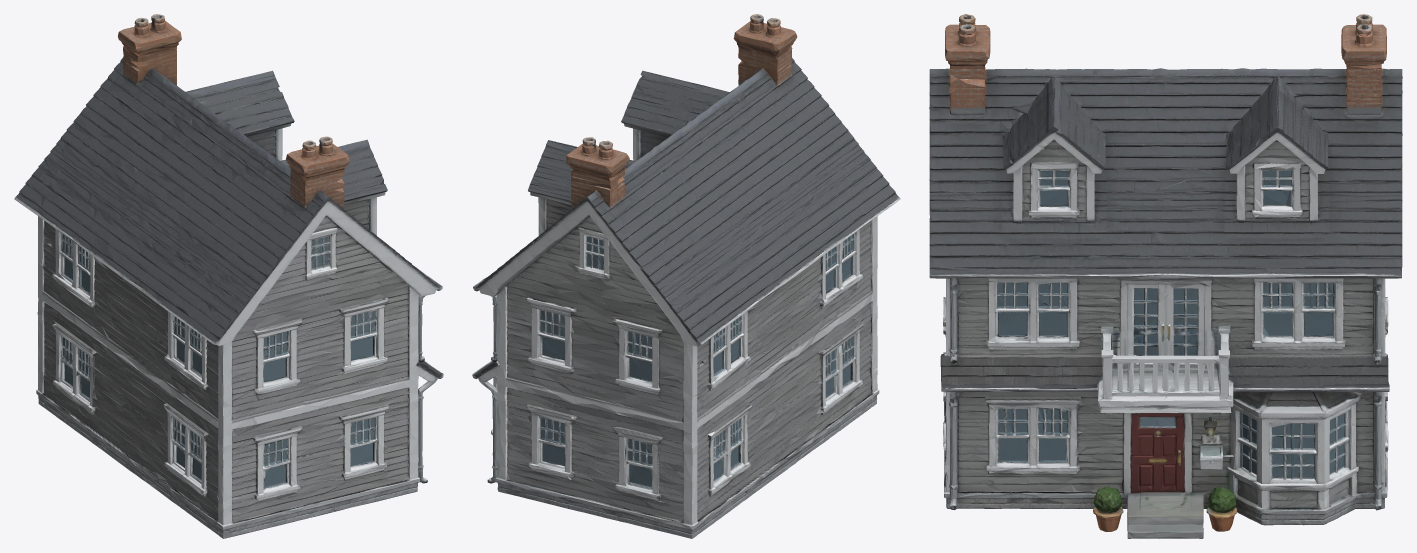
File: house_2story_grey.glb
3 renders of one model, left to right at view 1: azimuth 30°, elevation 25°; view 2: azimuth 150°, elevation 25°; view 3: azimuth 270°, elevation 25°, orthographic. The views are drawn at different scales.
Visible parts, largest first — view 1: tripo_node_8e58a75a-4233-428f-9829-4757141bee92; view 2: tripo_node_8e58a75a-4233-428f-9829-4757141bee92; view 3: tripo_node_8e58a75a-4233-428f-9829-4757141bee92.
Boxes of the visible parts, box(x1,y1,x2,y2) form: tripo_node_8e58a75a-4233-428f-9829-4757141bee92: box(14, 14, 443, 538); tripo_node_8e58a75a-4233-428f-9829-4757141bee92: box(472, 14, 900, 538); tripo_node_8e58a75a-4233-428f-9829-4757141bee92: box(929, 14, 1402, 538).
Size of the model in its own units: 0.7518 by 1 by 0.9868.
1 material, 1 textured.
